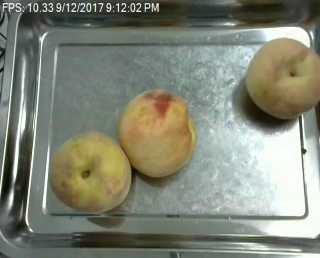Peach: (116, 87, 196, 177), (49, 131, 132, 213), (243, 36, 320, 119)
